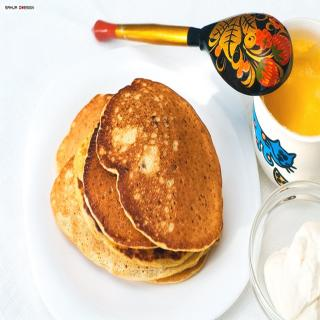Pancake: (48, 153, 210, 286), (97, 79, 223, 248), (79, 124, 185, 268), (52, 87, 115, 177)
